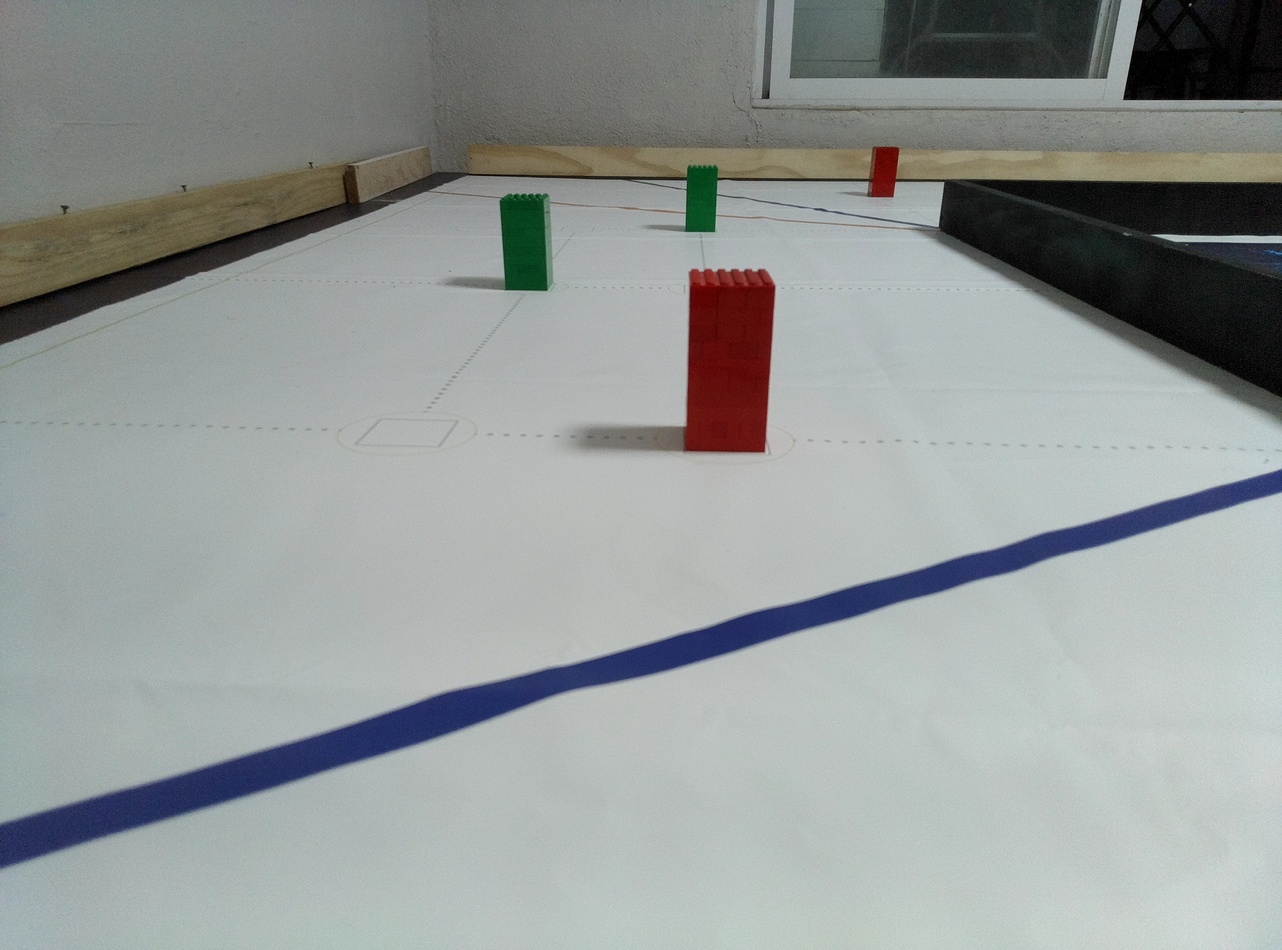greenbox: (499, 194, 553, 291), (685, 164, 718, 232)
redbox: (686, 268, 776, 454), (867, 146, 899, 197)
